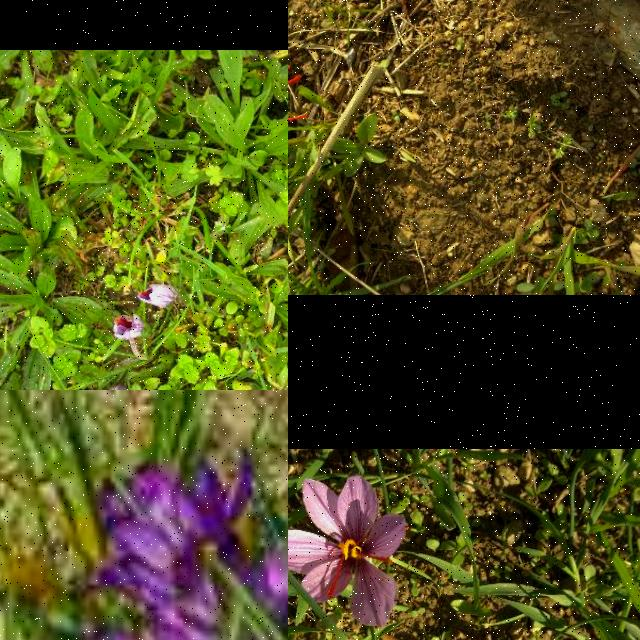flower: (288, 475, 407, 627), (115, 314, 142, 342), (138, 284, 170, 306)
